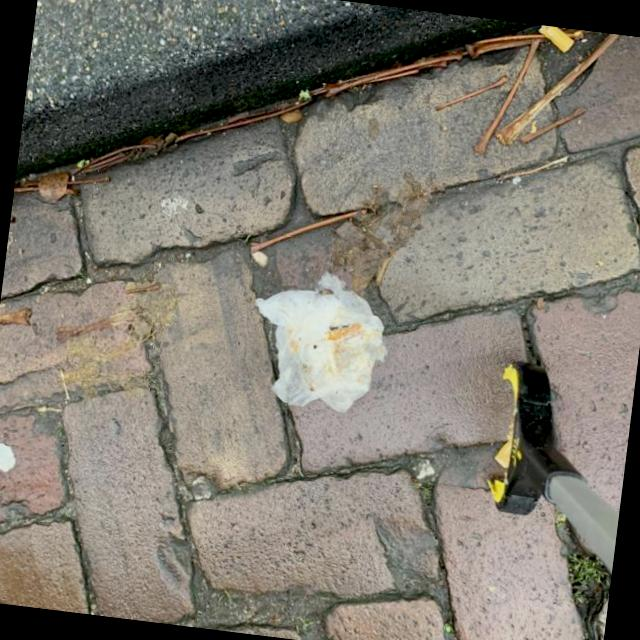Paper: (241, 262, 397, 419)
